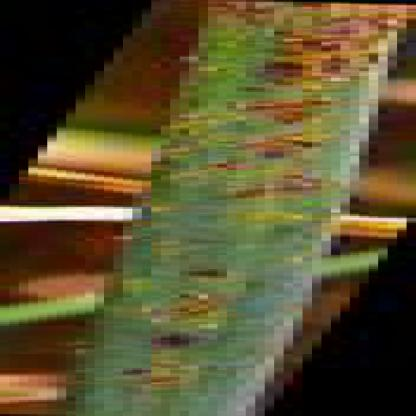wheat Stem Rust: (184, 5, 372, 80), (170, 92, 339, 127), (206, 172, 330, 204), (102, 357, 226, 388), (107, 292, 238, 321), (103, 326, 227, 350), (206, 134, 321, 158), (148, 267, 242, 283)
